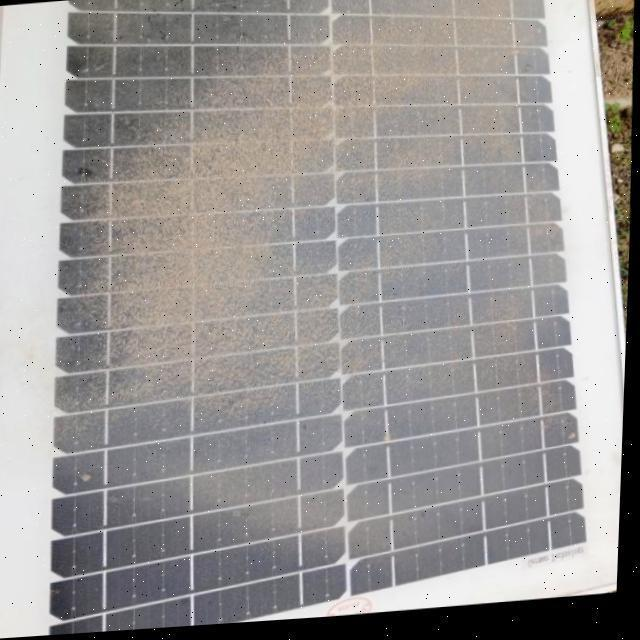Anomaly Solar Panel: (29, 0, 624, 637)
Surface Contaminant: (79, 0, 572, 424)
